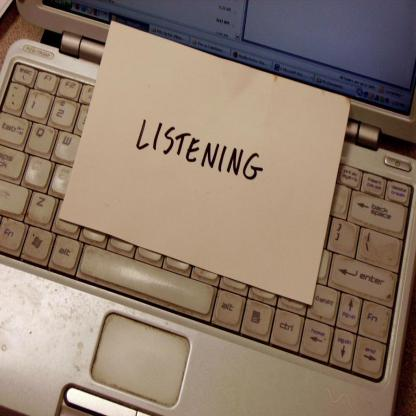board: (19, 0, 410, 416)
